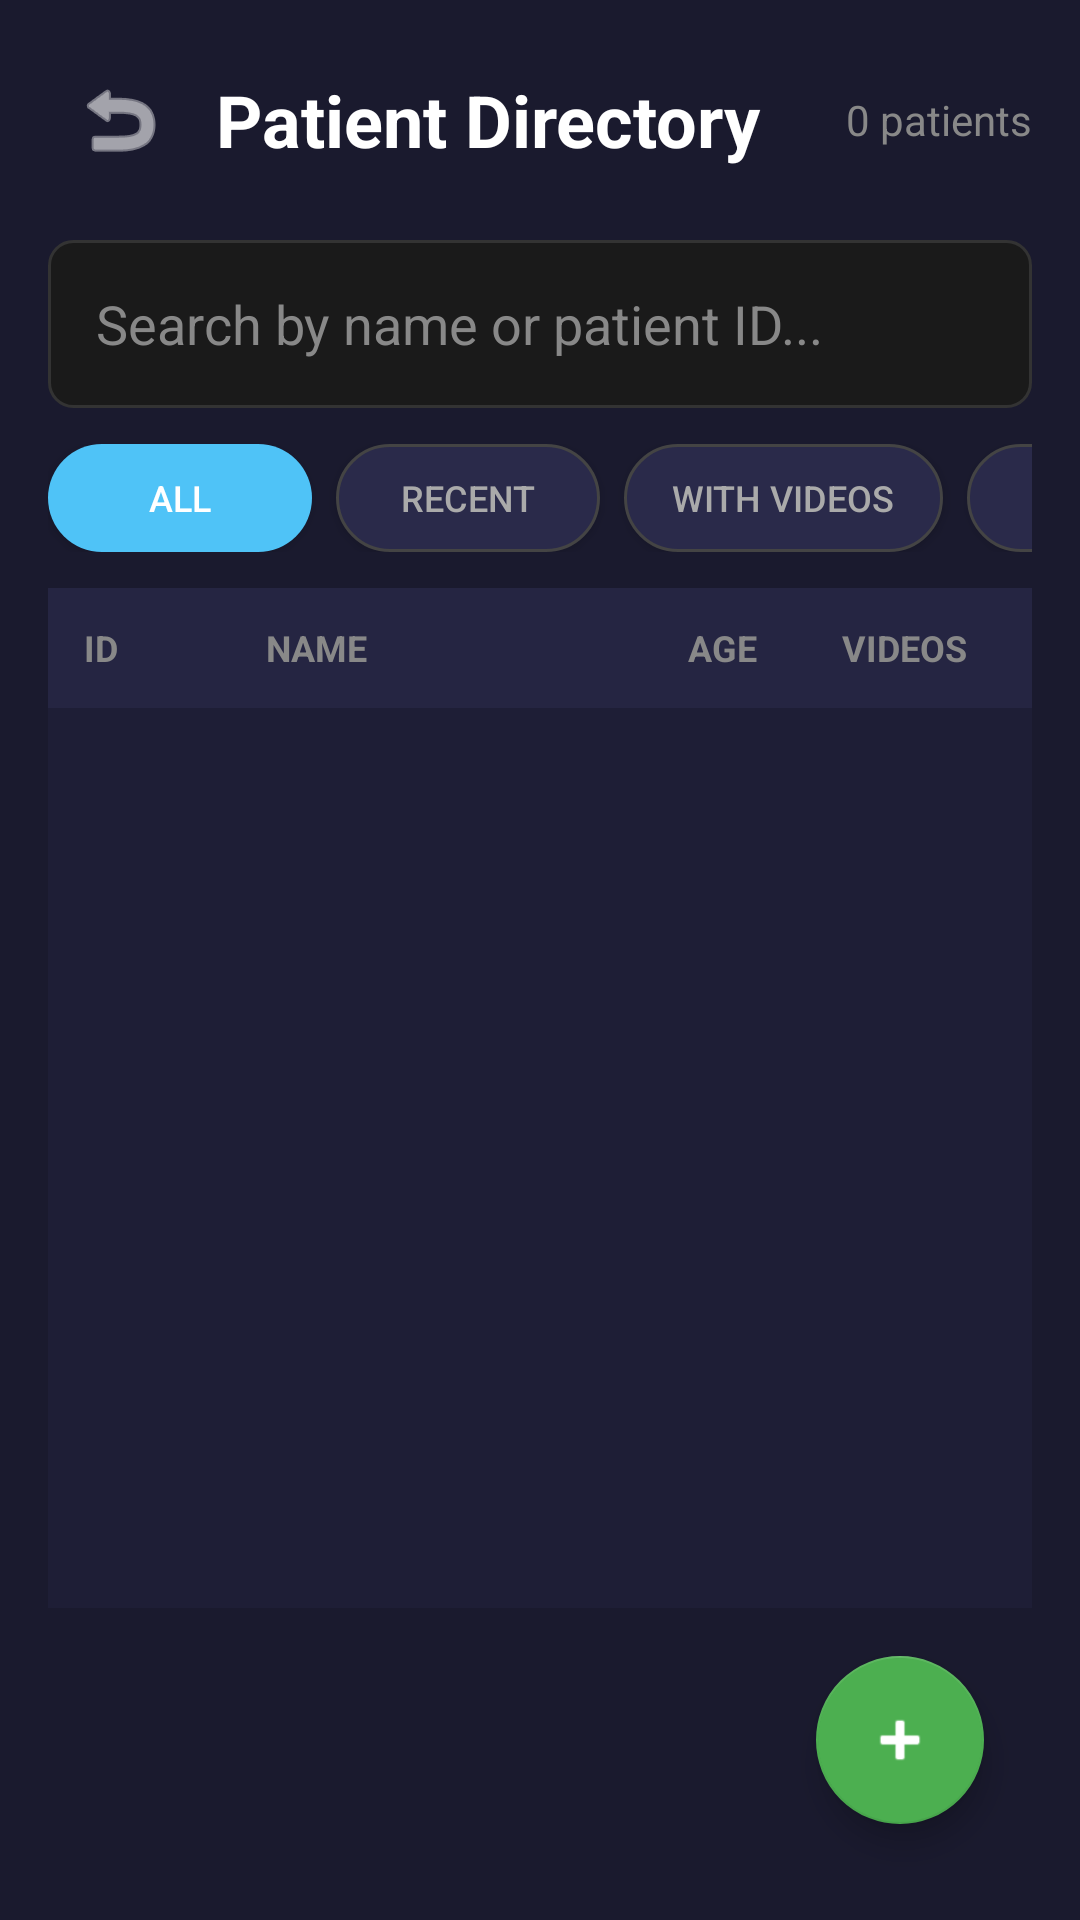

Locate icon controls on the screen. Image size 1080 x 1920, boxes as (x1, y1, x2, y2).
Add Patient: (816, 1656, 984, 1824)
Back: (87, 89, 156, 152)
